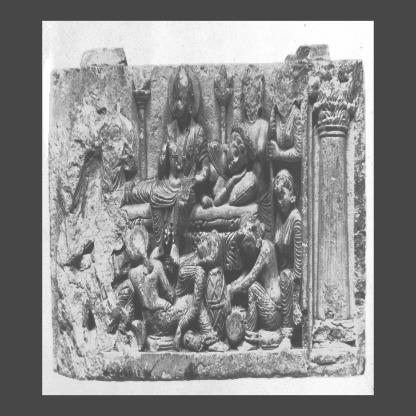buddha-sleeping: (125, 173, 181, 244), (208, 130, 259, 207), (194, 173, 207, 183)
